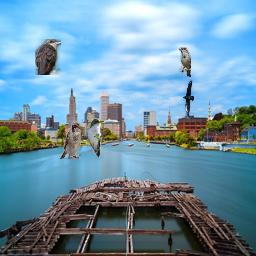Crow: (183, 79, 194, 119)
Cuckoo: (35, 39, 61, 75), (87, 118, 104, 158)
Sparrow: (60, 121, 81, 159), (179, 47, 191, 77)
